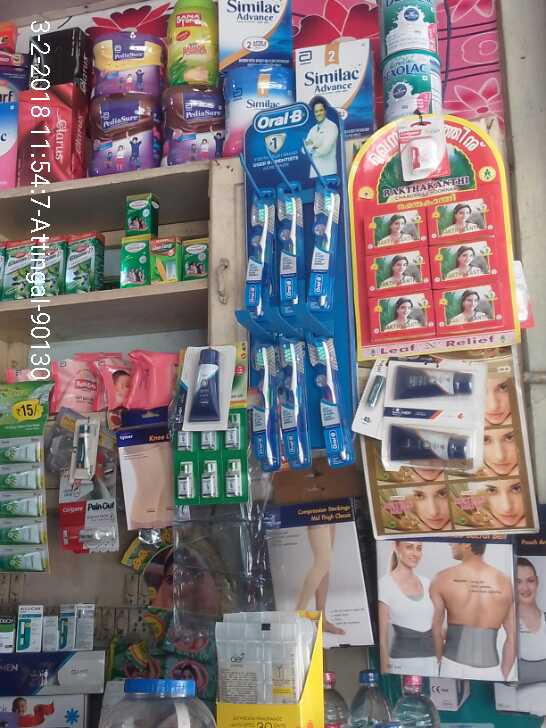oralb: (310, 335, 356, 465), (277, 337, 313, 470), (308, 178, 339, 312), (250, 339, 281, 470), (277, 181, 303, 307), (243, 196, 269, 312)
